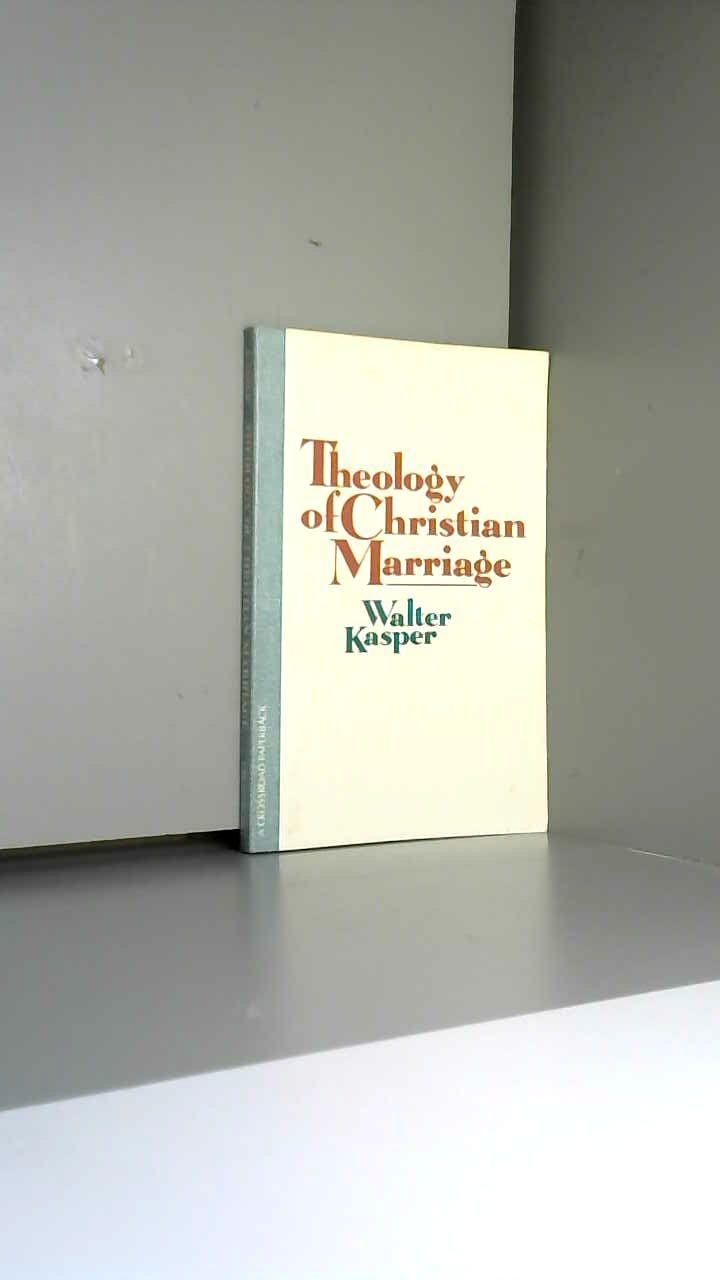book: (209, 295, 596, 892)
